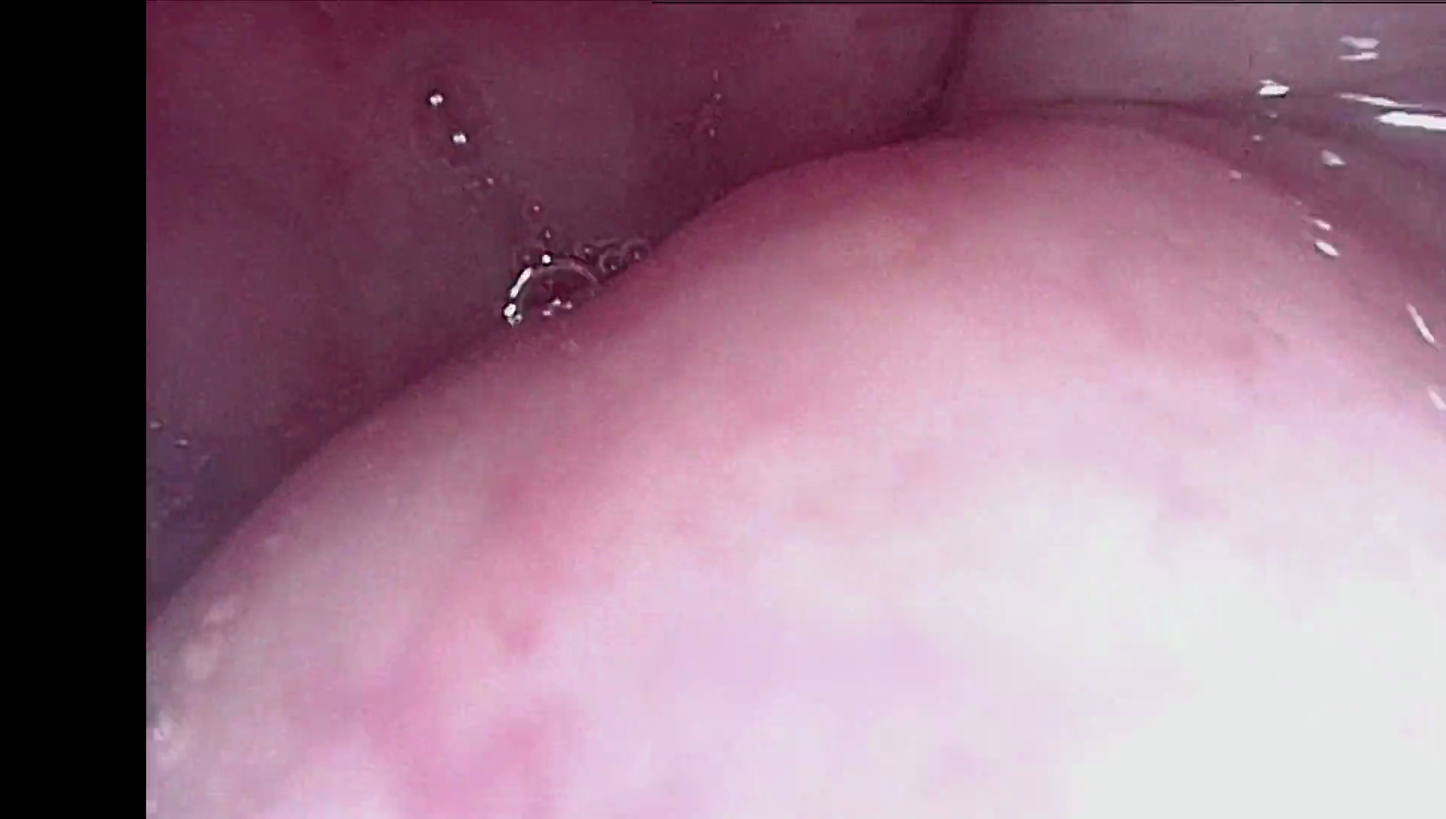close_wall: (246, 135, 1446, 819)
next: (154, 406, 291, 605)
